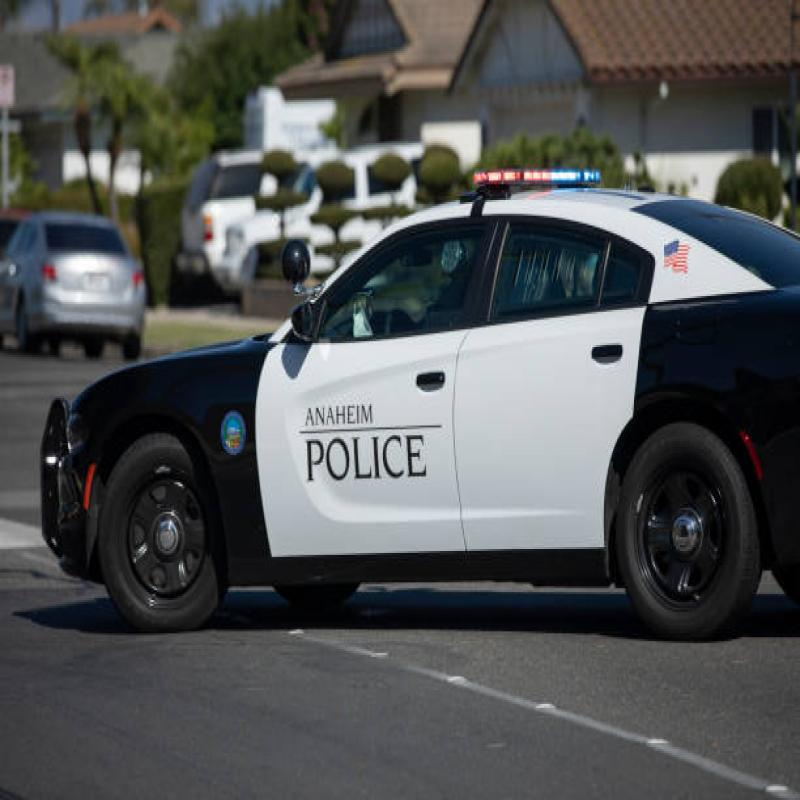AmbulanceSiren: (446, 157, 608, 216)
